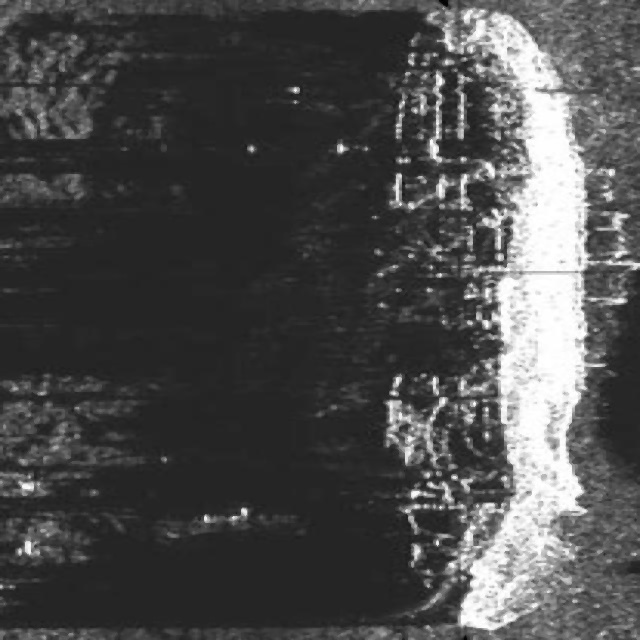Ship: (253, 3, 640, 639)
